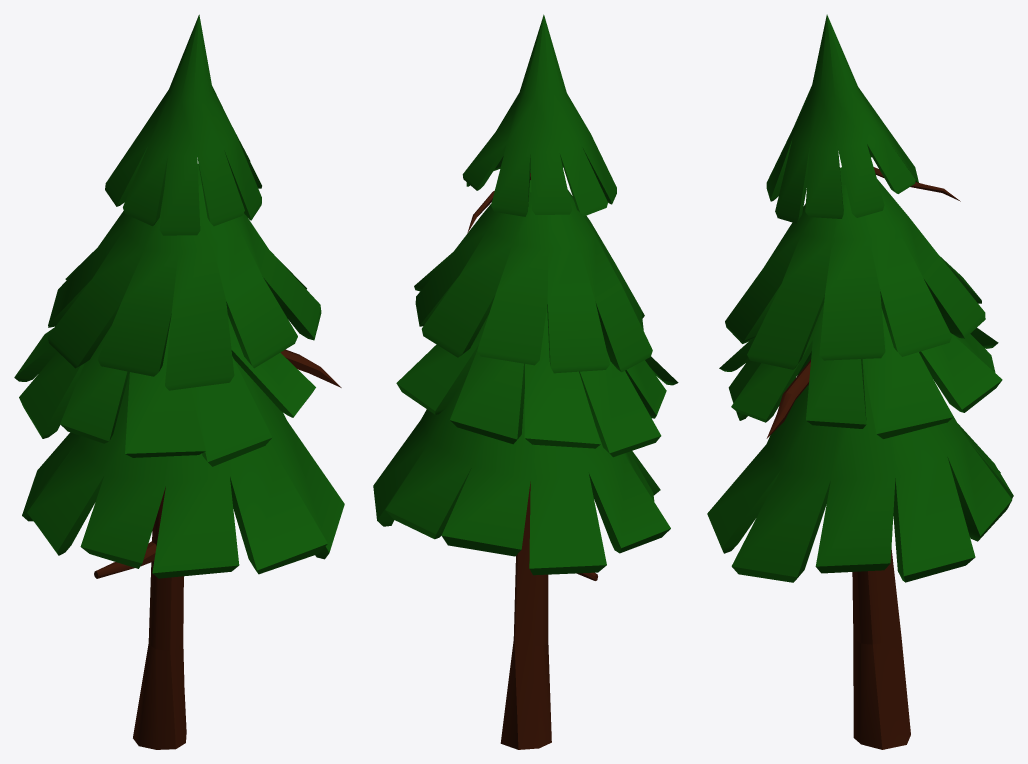
Rendered from TreeFir5.obj.
The picture shows the model from 3 angles, left to right: view 1: azimuth 30°, elevation 25°; view 2: azimuth 150°, elevation 25°; view 3: azimuth 270°, elevation 25°; orthographic projection. The views are drawn at different scales.
Parts seen in each view (by area): view 1: Tree_Fir_5; view 2: Tree_Fir_5; view 3: Tree_Fir_5.
Boxes of the visible parts, x1,y1,x2,y2 form: Tree_Fir_5: [14, 14, 344, 749]; Tree_Fir_5: [373, 14, 678, 749]; Tree_Fir_5: [707, 14, 1013, 749].
Size of the model in its own units: 0.1615 by 0.4065 by 0.1551.
